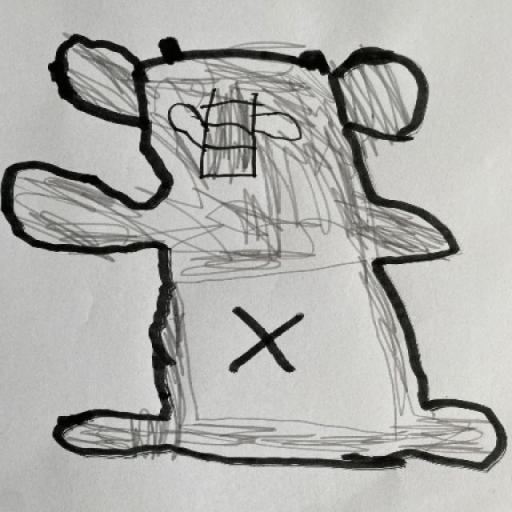person: (6, 26, 506, 474)
